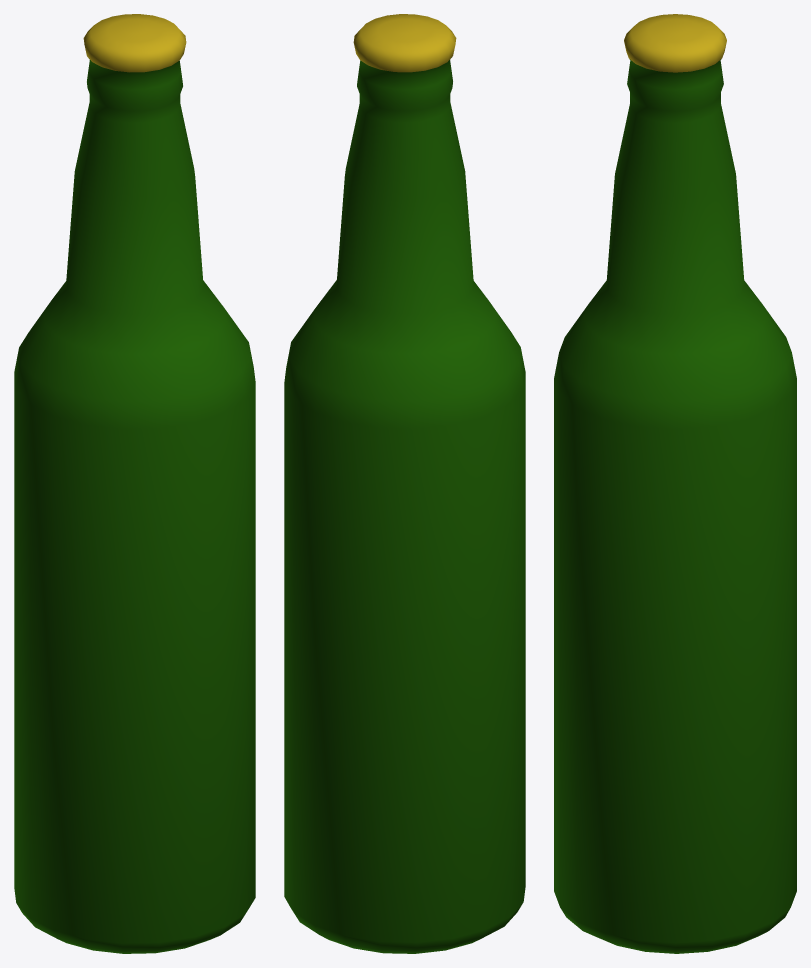
The model's file is Bottle.fbx.
3 views of the same model, side by side, from view 1: azimuth 30°, elevation 25°; view 2: azimuth 150°, elevation 25°; view 3: azimuth 270°, elevation 25° (orthographic).
Parts seen in each view (by area): view 1: BUTTLE; view 2: BUTTLE; view 3: BUTTLE.
Part boxes in pixels (box(x1,y1,x2,y2)): BUTTLE: box(14, 14, 255, 953); BUTTLE: box(284, 14, 525, 953); BUTTLE: box(554, 14, 796, 953).
Size of the model in its own units: 122 by 491 by 122.
